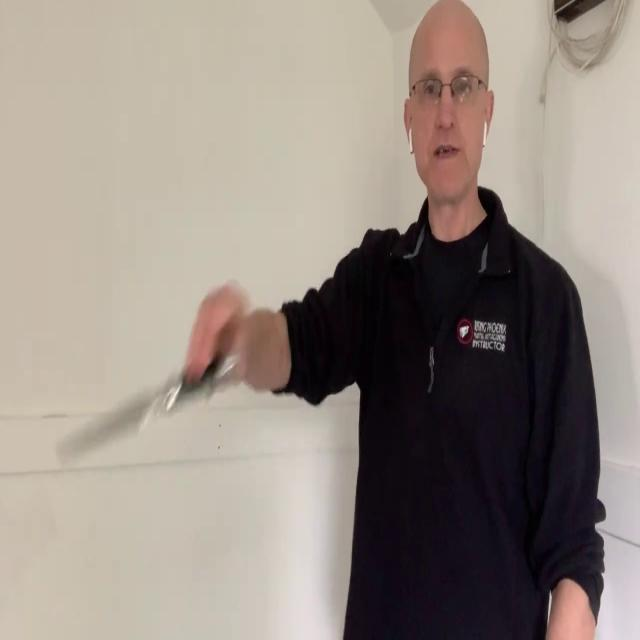Knife_Handle: (55, 278, 251, 460)
